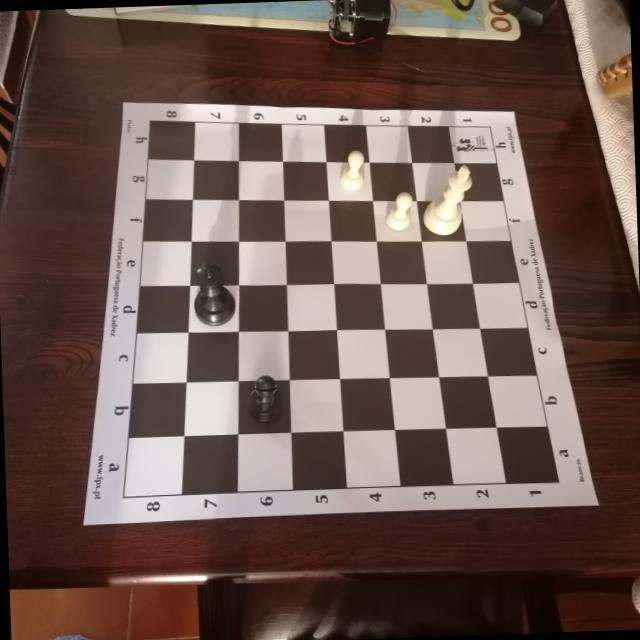black-bishop: (246, 372, 286, 423)
black-king: (192, 258, 236, 327)
white-king: (421, 163, 475, 237)
white-pawn: (384, 191, 414, 233), (337, 148, 366, 191)
